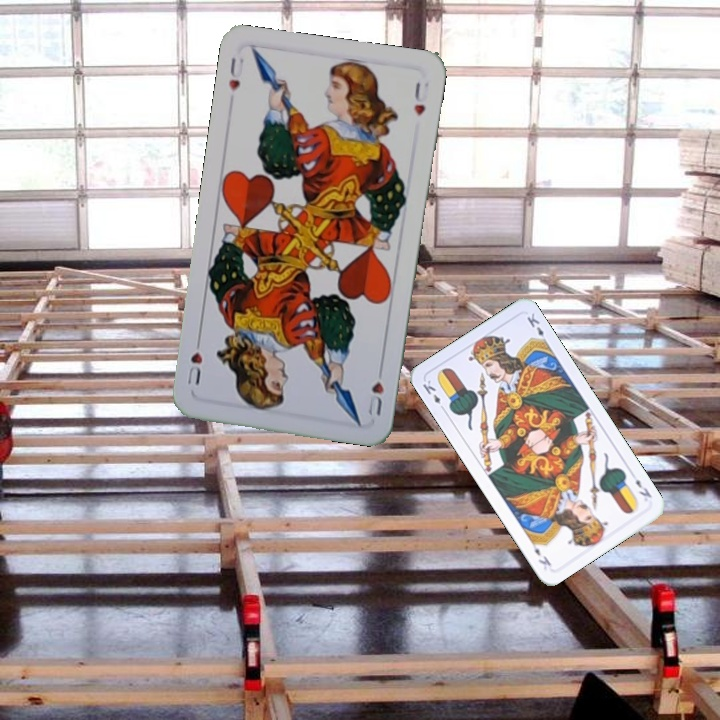EK: (419, 376, 448, 414), (631, 475, 654, 500)
HU: (363, 361, 386, 418), (224, 53, 246, 94)
